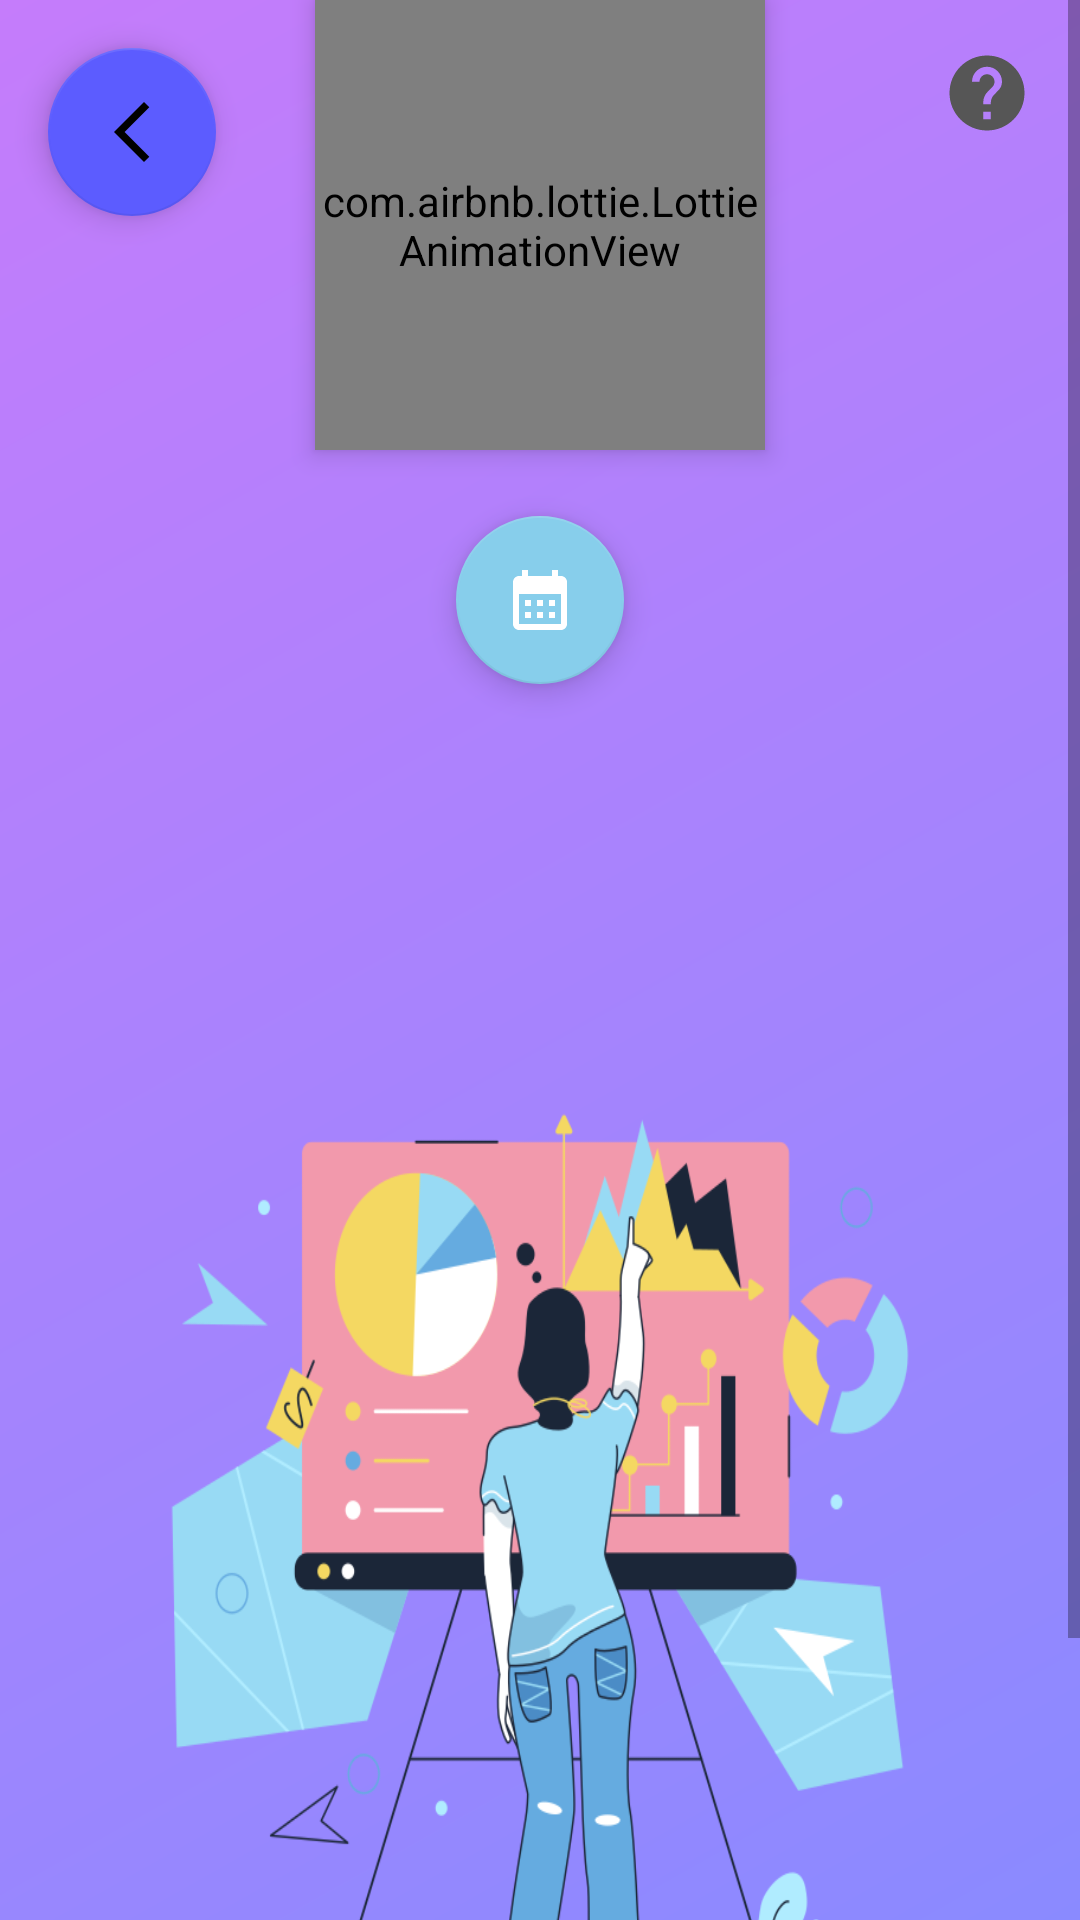

Point at icon controls on the screen. Image size 1080*1920, points as (x,y).
arrow back: (132,132)
calendar month: (540,600)
help: (987,93)
